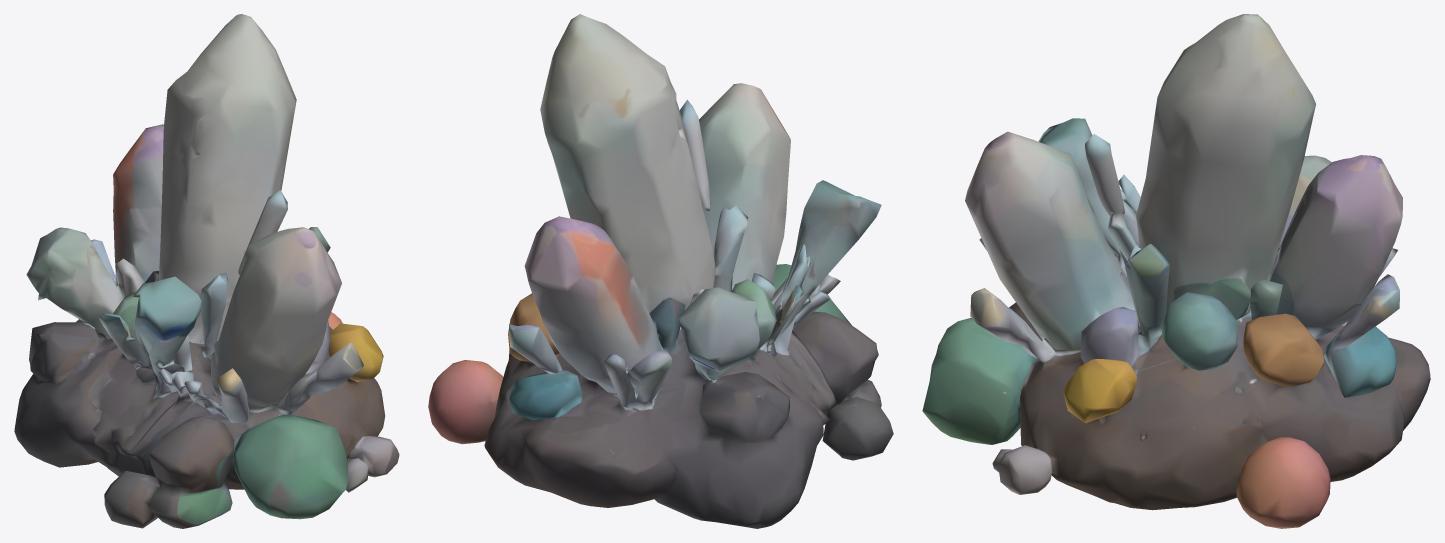
The model's file is crystal.glb.
The picture shows the model from 3 angles, left to right: view 1: azimuth 30°, elevation 25°; view 2: azimuth 150°, elevation 25°; view 3: azimuth 270°, elevation 25°; orthographic projection. The views are drawn at different scales.
Parts seen in each view (by area): view 1: tripo_node_6d58564c-2ea0-4b56-8e9e-ecc075d57be5; view 2: tripo_node_6d58564c-2ea0-4b56-8e9e-ecc075d57be5; view 3: tripo_node_6d58564c-2ea0-4b56-8e9e-ecc075d57be5.
Boxes of the visible parts, box(x1,y1,x2,y2) form: tripo_node_6d58564c-2ea0-4b56-8e9e-ecc075d57be5: box(14, 14, 399, 528); tripo_node_6d58564c-2ea0-4b56-8e9e-ecc075d57be5: box(428, 14, 893, 528); tripo_node_6d58564c-2ea0-4b56-8e9e-ecc075d57be5: box(922, 14, 1430, 528).
Size of the model in its own units: 0.2111 by 0.25 by 0.2438.
Materials: 1 (1 with a texture image).
